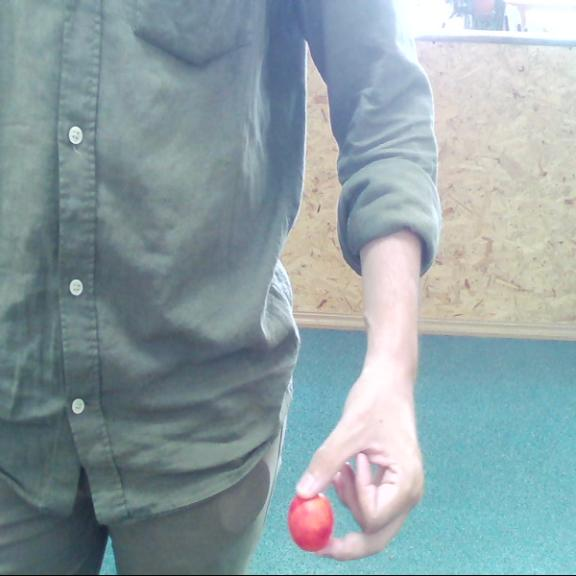ball: (286, 493, 336, 554)
